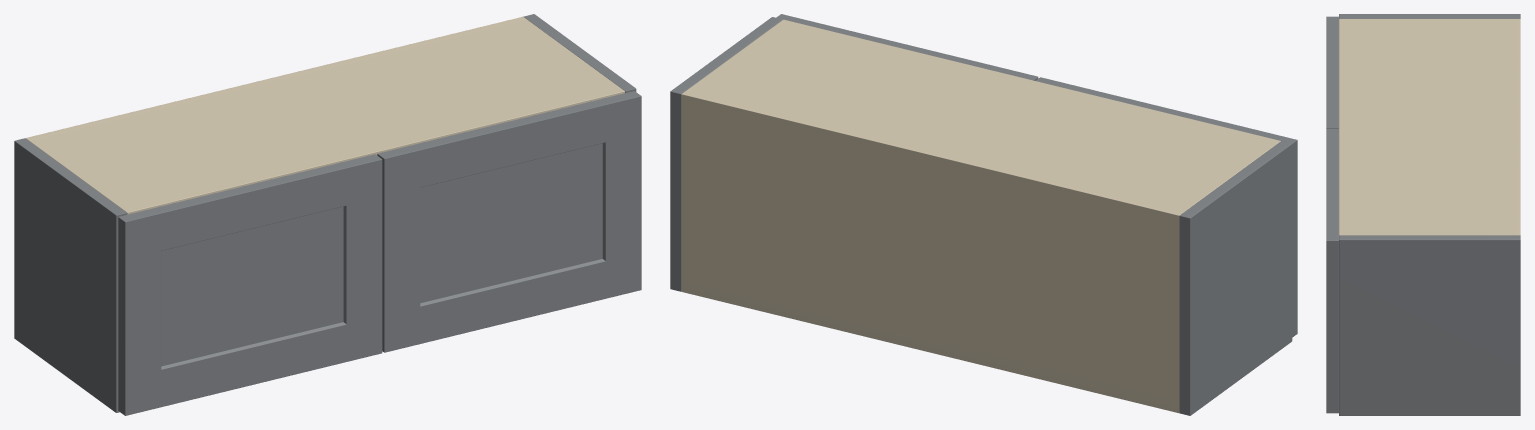
Rendered from oppein-ply-gss-w3312.glb.
The picture shows the model from 3 angles, left to right: view 1: azimuth 30°, elevation 25°; view 2: azimuth 150°, elevation 25°; view 3: azimuth 270°, elevation 25°; orthographic projection. The views are drawn at different scales.
Visible parts, largest first — view 1: Door, Door.001, Cabinet top, Cabinet side, Cabinet back, Cabinet side.001; view 2: Cabinet back, Cabinet top, Cabinet side, Cabinet bottom, Cabinet side.001, Door, Door.001; view 3: Cabinet top, Cabinet side.001, Door.001, Cabinet back, Door, Cabinet side.
Boxes of the visible parts, x1,y1,x2,y2 form: Door: (118,154,382,415); Door.001: (377,91,641,352); Cabinet top: (30,17,624,214); Cabinet side: (14,138,127,412); Cabinet back: (26,17,526,140); Cabinet side.001: (523,14,636,93); Cabinet back: (681,93,1182,412); Cabinet top: (681,19,1280,222); Cabinet side: (1179,141,1292,415); Cabinet bottom: (681,281,1178,412); Cabinet side.001: (670,17,782,291); Door: (1036,77,1297,337); Door.001: (776,14,1038,80); Cabinet top: (1339,19,1520,235); Cabinet side.001: (1339,235,1520,415); Door.001: (1326,129,1338,413); Cabinet back: (1513,19,1520,235); Door: (1326,16,1338,128); Cabinet side: (1339,14,1520,18).
Bounding box in the file's own units: 0.8382 × 0.3048 × 0.3048.
